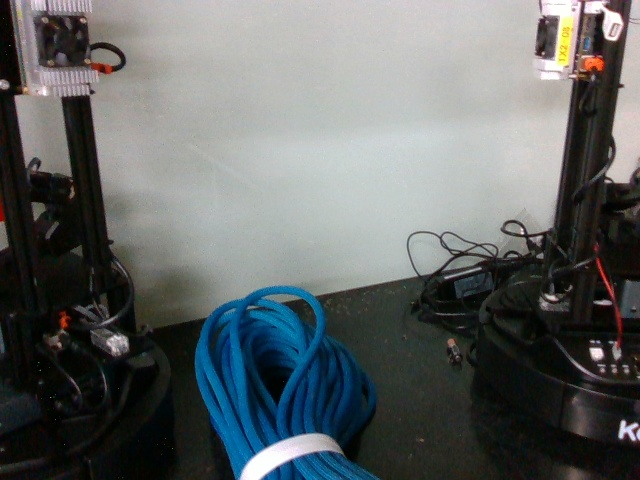rope: (186, 278, 387, 480)
